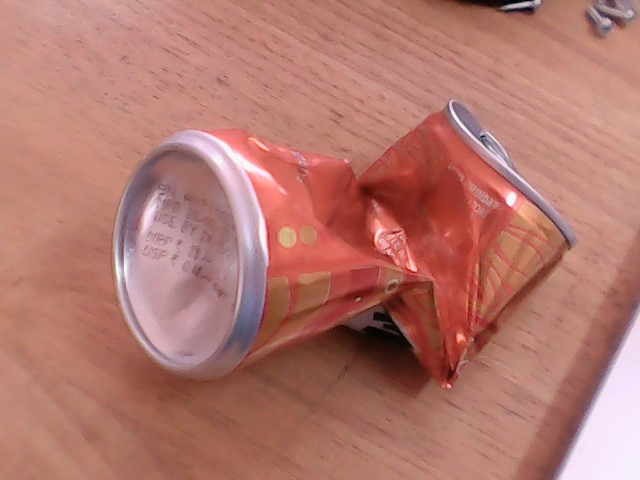Metal: (113, 126, 560, 343)
